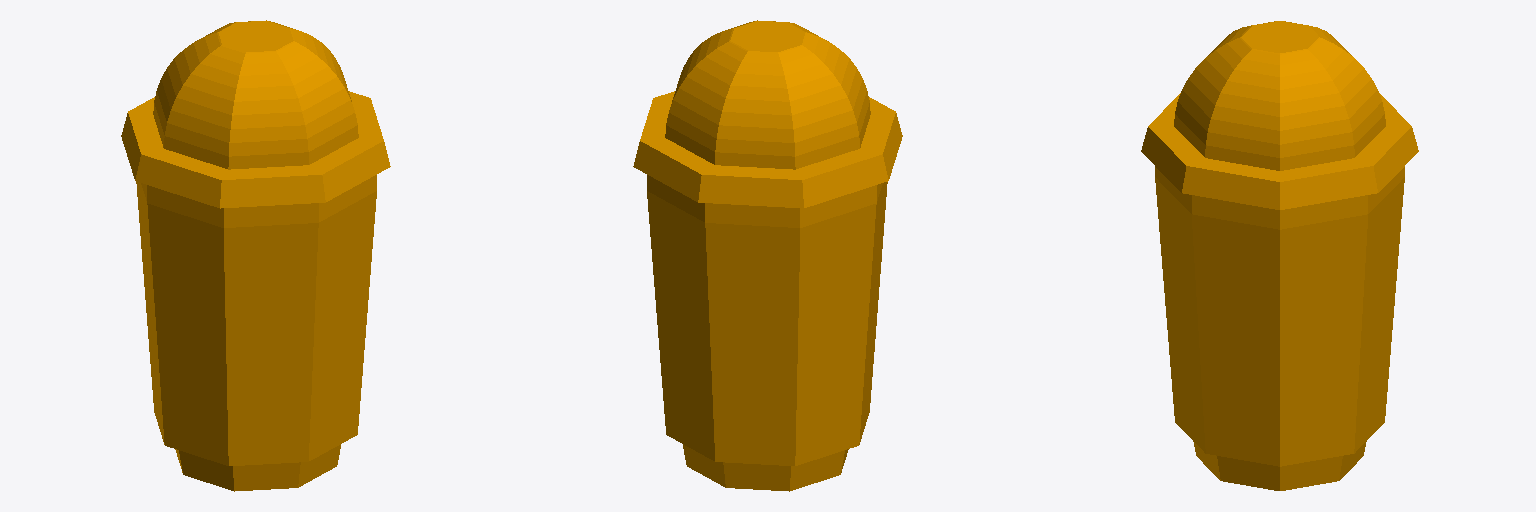
URDF robot description (plasticcup):
<?xml version="1.0"?>
<robot name="plasticcup">
  <link name="plasticcup">
    <inertial>
        <origin rpy="0 0 0" xyz="0 0 0"/>
        <mass value="30.0"/>
        <inertia ixx="2e-2" ixy="0" ixz="0" iyy="2e-2" iyz="0" izz="2e-2"/>
    </inertial>
    <visual>
      <geometry>
        <mesh filename="plastic_cup_visual.obj"/>
      </geometry>
    </visual>
    <collision>
      <geometry>
        <mesh filename="plastic_cup_visual.obj"/>
      </geometry>
      <surface>
           <bounce restitution_coefficient = "0.1"/>
      </surface>
    </collision>
  </link>
</robot>

--- Render facts (derived) ---
The picture shows the robot from 3 angles, left to right: view 1: azimuth 30°, elevation 25°; view 2: azimuth 150°, elevation 25°; view 3: azimuth 270°, elevation 25°; orthographic projection.
Model plasticcup with 1 links and 0 joints (none), rooted at plasticcup, posed all joints at 0.
Visible links, largest first — view 1: plasticcup; view 2: plasticcup; view 3: plasticcup.
Boxes of the visible links, x1=… form: plasticcup: x1=121, y1=20, x2=390, y2=491; plasticcup: x1=633, y1=20, x2=902, y2=491; plasticcup: x1=1141, y1=21, x2=1418, y2=490.
Size in the robot's own frame: 0.2541 by 0.2541 by 0.4224 metres.
1 mesh visuals loaded from 1 distinct referenced files (1 OBJ).
